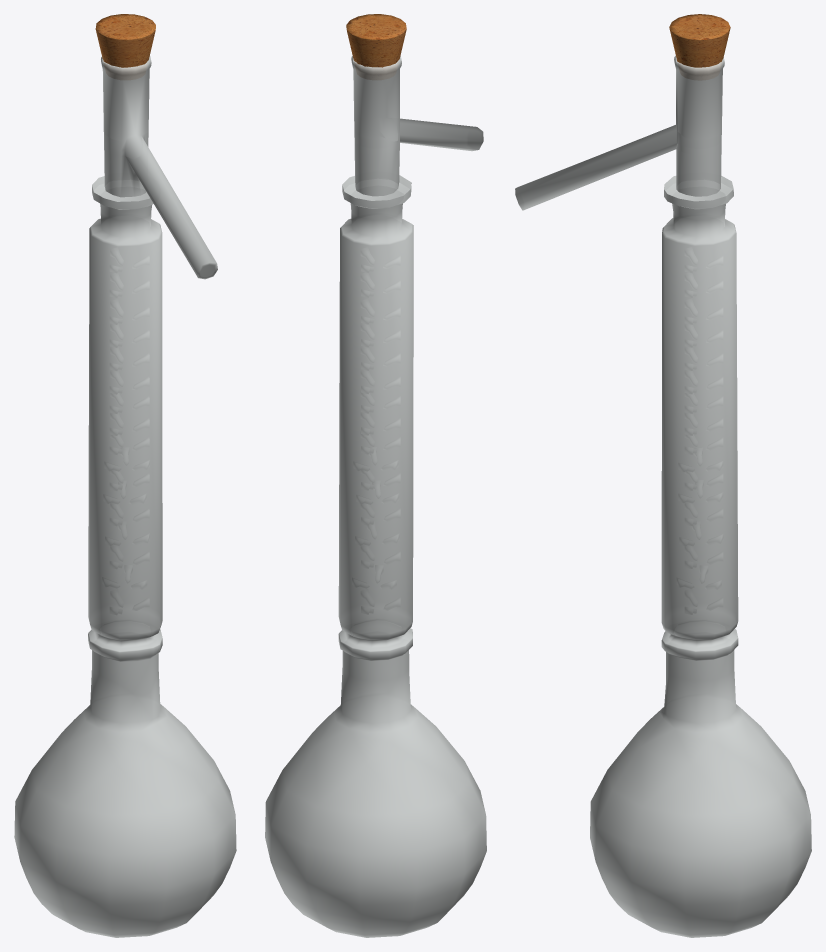
Rendered from Distillation_flask.fbx.
3 views of the same model, side by side, from view 1: azimuth 30°, elevation 25°; view 2: azimuth 150°, elevation 25°; view 3: azimuth 270°, elevation 25° (orthographic).
Parts seen in each view (by area): view 1: Flask, Cap; view 2: Flask, Cap; view 3: Flask, Cap.
Boxes of the visible parts, x1,y1,x2,y2 form: Flask: (14,56,236,937); Cap: (95,14,155,67); Flask: (265,56,486,937); Cap: (346,14,406,67); Flask: (515,56,811,937); Cap: (669,14,730,67).
Bounding box in the file's own units: 0.1008 × 0.4384 × 0.1334.
2 materials, 1 textured.
